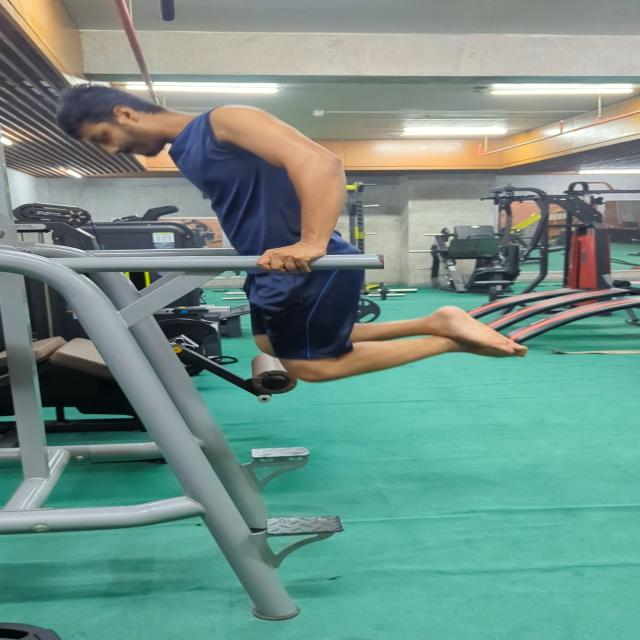Normal_Dips: (44, 72, 536, 388)
